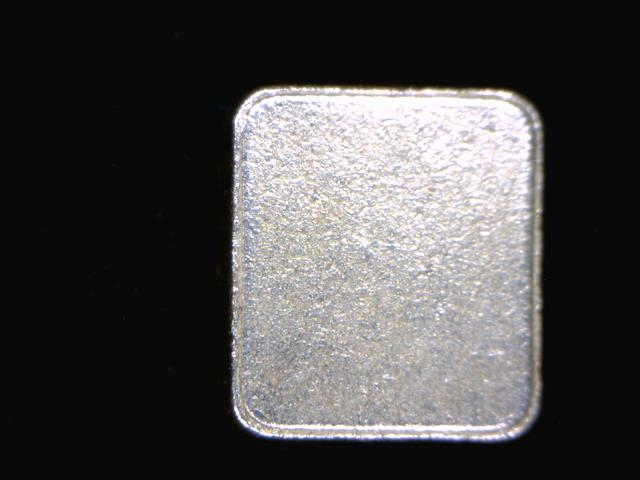nok: (219, 83, 559, 441)
